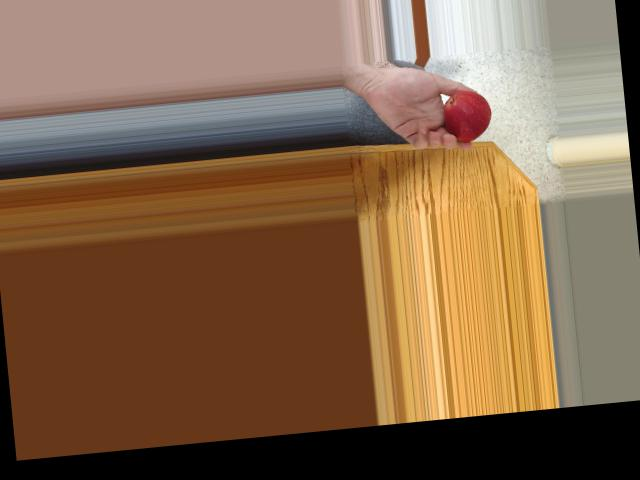apple: (440, 87, 495, 142)
